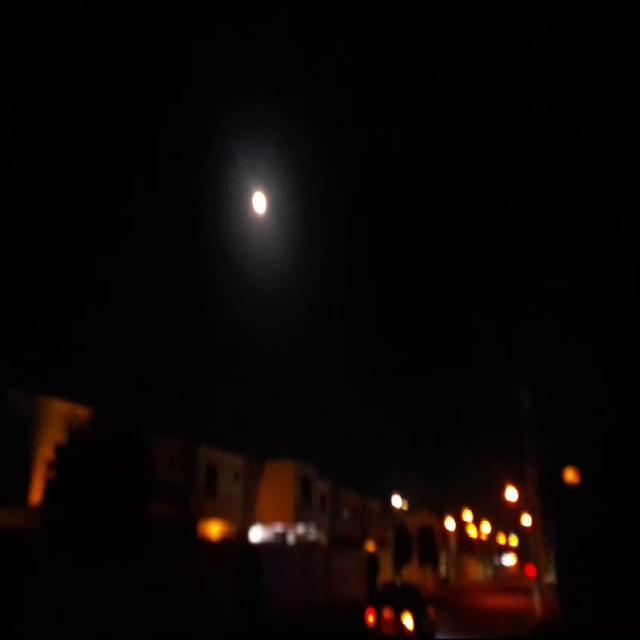moon: (245, 185, 265, 219)
